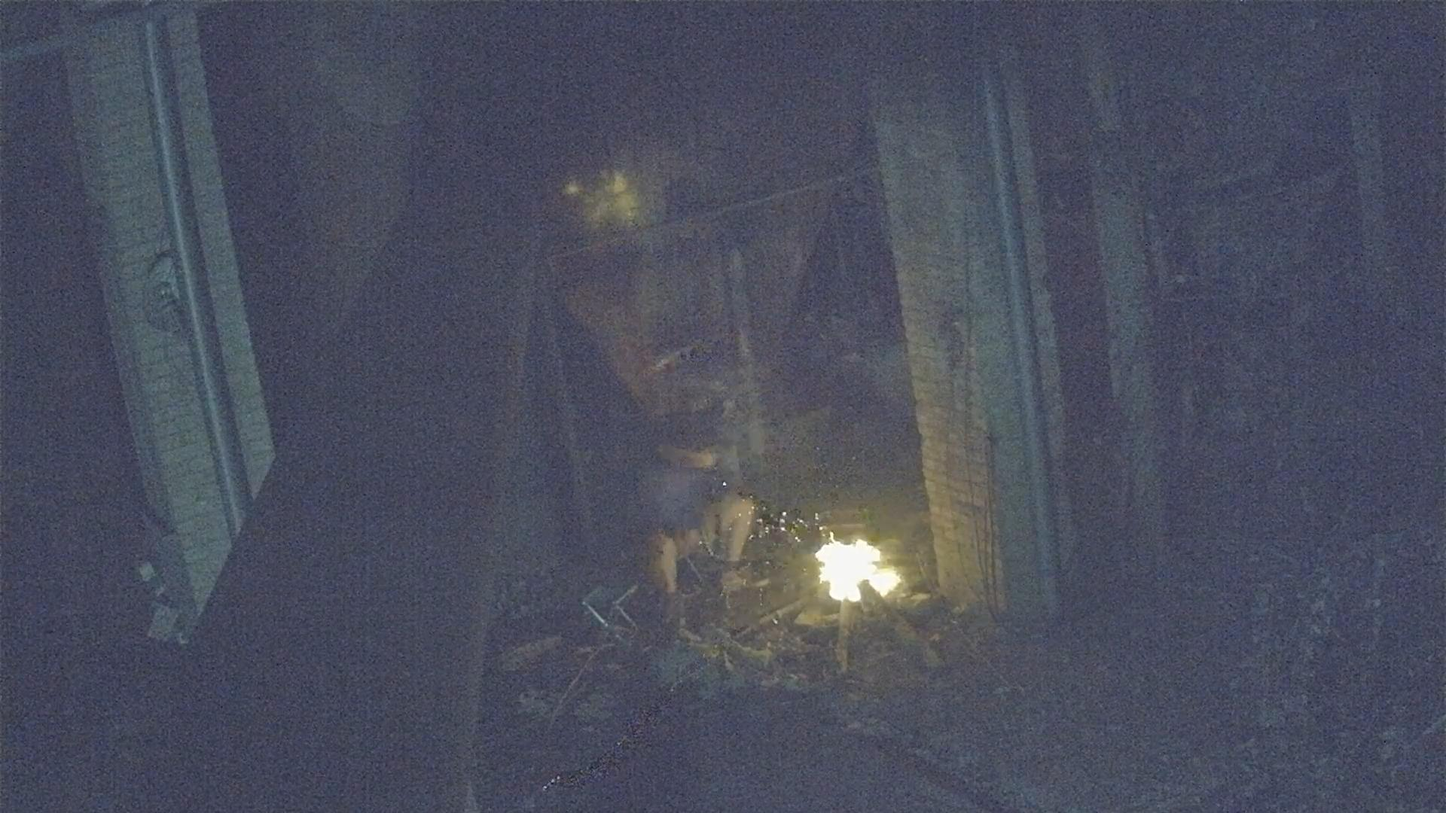fire: (815, 541, 901, 602)
